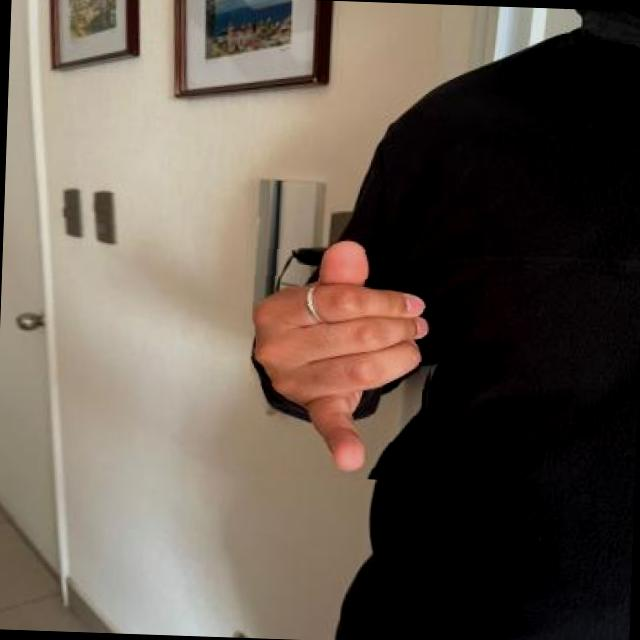Z: (246, 234, 440, 481)
